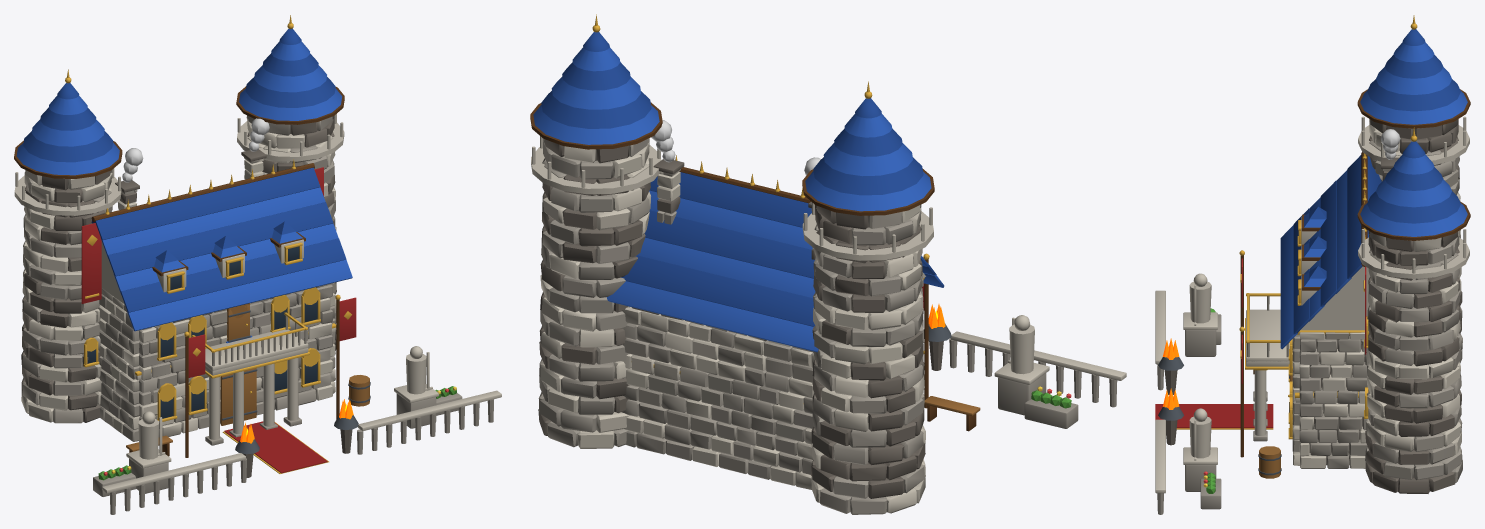
The model's file is budynek_glowny_poz19.glb.
3 views of the same model, side by side, from view 1: azimuth 30°, elevation 25°; view 2: azimuth 150°, elevation 25°; view 3: azimuth 270°, elevation 25° (orthographic). The views are drawn at different scales.
Parts seen in each view (by area): view 1: budynek_glowny_poz19; view 2: budynek_glowny_poz19; view 3: budynek_glowny_poz19.
Part boxes in pixels (<box>): budynek_glowny_poz19: <box>14,15,501,514</box>; budynek_glowny_poz19: <box>530,14,1126,514</box>; budynek_glowny_poz19: <box>1155,15,1470,514</box>.
Size of the model in its own units: 13.6 by 11.09 by 9.08.
